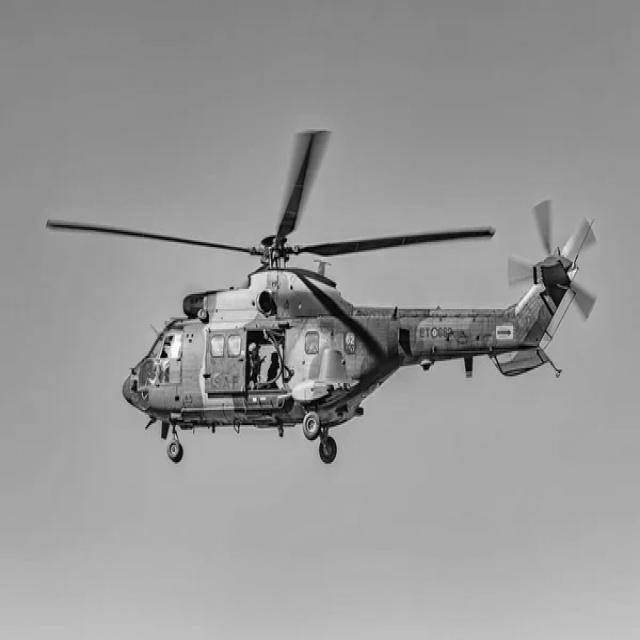Helicopter: (46, 129, 596, 464)
